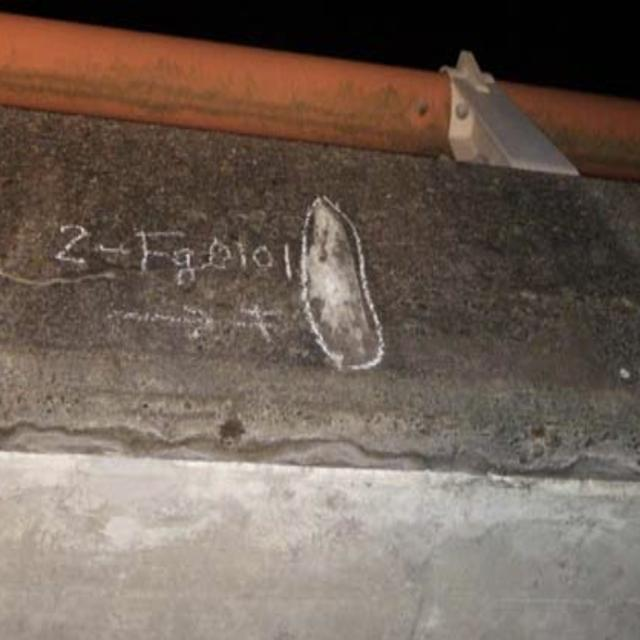freelime: (297, 180, 403, 404)
